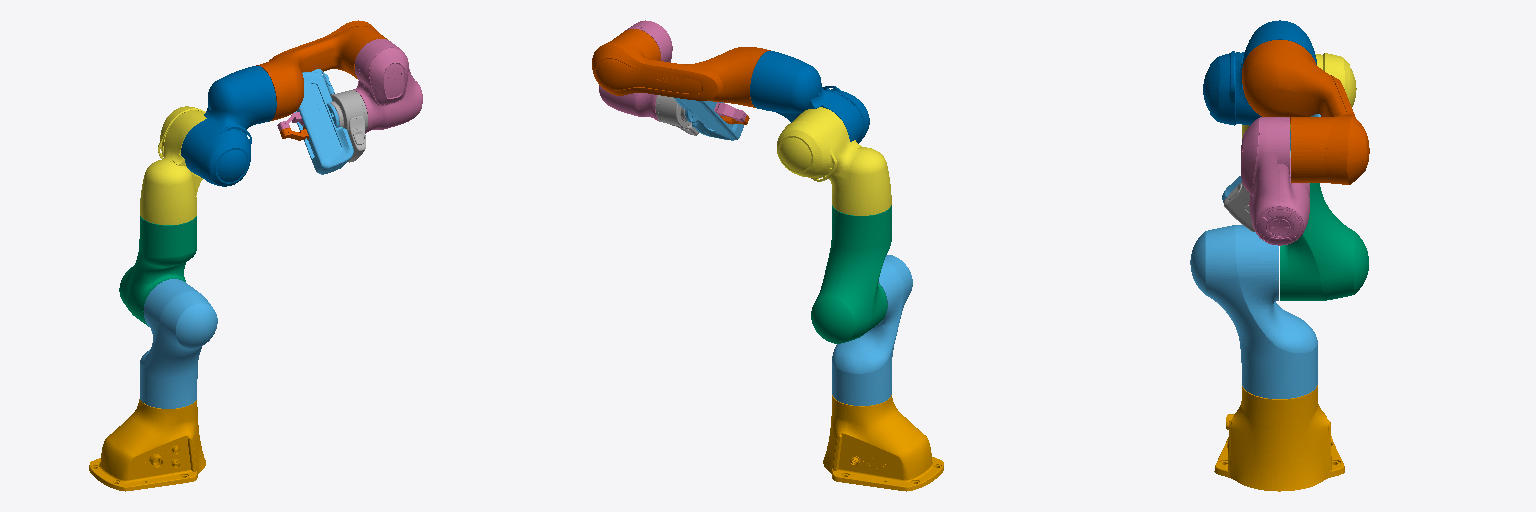
URDF robot description (panda):
<?xml version="1.0" ?>
<!-- =================================================================================== -->
<!-- |    This document was autogenerated by xacro from panda_arm.urdf.xacro           | -->
<!-- |    EDITING THIS FILE BY HAND IS NOT RECOMMENDED                                 | -->
<!-- =================================================================================== -->
<robot name="panda">
  <mujoco> <compiler discardvisual="false" strippath="false" balanceinertia="true" fusestatic="false"/> </mujoco>
  <link name="panda_link0">
    <visual>
      <geometry name="v1">
        <mesh filename="franka_description/meshes/visual/link0_visual.obj"/>
      </geometry>
    </visual>
    <collision>
      <geometry>
        <mesh filename="franka_description/meshes/collision/link0.stl"/>
      </geometry>
    </collision>
    <inertial>
      <origin rpy="0 0 0" xyz="-0.041018 -0.00014 0.049974"/>
      <mass value="0.629769"/>
      <inertia ixx="0.00315" ixy="8.2904e-07" ixz="0.00015" iyy="0.00388" iyz="8.2299e-06" izz="0.004285"/>
    </inertial>
  </link>
  <link name="panda_link1">
    <visual>
      <geometry name="v2">
        <mesh filename="franka_description/meshes/visual/link1_visual.obj"/>
      </geometry>
    </visual>
    <collision>
      <geometry>
        <mesh filename="franka_description/meshes/collision/link1.stl"/>
      </geometry>
    </collision>
    <inertial>
      <origin rpy="0 0 0" xyz="0.003875 0.002081 -0.04762"/>
      <mass value="4.970684"/>
      <inertia ixx="0.70337" ixy="-0.000139" ixz="0.006772" iyy="0.70661" iyz="0.019169" izz="0.009117"/>
    </inertial>
  </link>
  <joint name="panda_joint1" type="revolute">
    <safety_controller k_position="100.0" k_velocity="40.0" soft_lower_limit="-2.8973" soft_upper_limit="2.8973"/>
    <origin rpy="0 0 0" xyz="0 0 0.333"/>
    <parent link="panda_link0"/>
    <child link="panda_link1"/>
    <axis xyz="0 0 1"/>
    <limit effort="87" lower="-2.8973" upper="2.8973" velocity="2.1750"/>
    <dynamics D="1" K="7000" damping="0.003" friction="0.0" mu_coulomb="0" mu_viscous="16"/>
  </joint>
  <link name="panda_link2">
    <visual>
      <geometry name="v3">
        <mesh filename="franka_description/meshes/visual/link2_visual.obj"/>
      </geometry>
    </visual>
    <collision>
      <geometry>
        <mesh filename="franka_description/meshes/collision/link2.stl"/>
      </geometry>
    </collision>
    <inertial>
      <origin rpy="0 0 0" xyz="-0.003141 -0.02872  0.003495"/>
      <mass value="0.646926"/>
      <inertia ixx="0.007962" ixy="-0.003925" ixz="0.010254" iyy="0.02811" iyz="0.000704" izz="0.025995"/>
    </inertial>
  </link>
  <joint name="panda_joint2" type="revolute">
    <safety_controller k_position="100.0" k_velocity="40.0" soft_lower_limit="-1.7628" soft_upper_limit="1.7628"/>
    <origin rpy="-1.5707963267948966 0 0" xyz="0 0 0"/>
    <parent link="panda_link1"/>
    <child link="panda_link2"/>
    <axis xyz="0 0 1"/>
    <limit effort="87" lower="-1.7628" upper="1.7628" velocity="2.1750"/>
    <dynamics D="1" K="7000" damping="0.003" friction="0.0" mu_coulomb="0" mu_viscous="16"/>
  </joint>
  <link name="panda_link3">
    <visual>
      <geometry name="v4">
        <mesh filename="franka_description/meshes/visual/link3_visual.obj"/>
      </geometry>
    </visual>
    <collision>
      <geometry>
        <mesh filename="franka_description/meshes/collision/link3.stl"/>
      </geometry>
    </collision>
    <inertial>
      <origin rpy="0 0 0" xyz="2.7518e-02 3.9252e-02 -6.6502e-02"/>
      <mass value="3.228604"/>
      <inertia ixx="0.037242" ixy="-0.004761" ixz="-0.011396" iyy="0.036155" iyz="-0.012805" izz="0.01083"/>
    </inertial>
  </link>
  <joint name="panda_joint3" type="revolute">
    <safety_controller k_position="100.0" k_velocity="40.0" soft_lower_limit="-2.8973" soft_upper_limit="2.8973"/>
    <origin rpy="1.5707963267948966 0 0" xyz="0 -0.316 0"/>
    <parent link="panda_link2"/>
    <child link="panda_link3"/>
    <axis xyz="0 0 1"/>
    <limit effort="87" lower="-2.8973" upper="2.8973" velocity="2.1750"/>
    <dynamics D="1" K="7000" damping="0.003" friction="0.0" mu_coulomb="0" mu_viscous="16"/>
  </joint>
  <link name="panda_link4">
    <visual>
      <geometry name="v5">
        <mesh filename="franka_description/meshes/visual/link4_visual.obj"/>
      </geometry>
    </visual>
    <collision>
      <geometry>
        <mesh filename="franka_description/meshes/collision/link4.stl"/>
      </geometry>
    </collision>
    <inertial>
      <origin rpy="0 0 0" xyz="-5.317e-02 1.04419e-01 2.7454e-02"/>
      <mass value="3.587895"/>
      <inertia ixx="0.025853" ixy="0.007796" ixz="-0.001332" iyy="0.019552" iyz="0.008641" izz="0.028323"/>
    </inertial>
  </link>
  <joint name="panda_joint4" type="revolute">
    <safety_controller k_position="100.0" k_velocity="40.0" soft_lower_limit="-3.0718" soft_upper_limit="-0.0698"/>
    <origin rpy="1.5707963267948966 0 0" xyz="0.0825 0 0"/>
    <parent link="panda_link3"/>
    <child link="panda_link4"/>
    <axis xyz="0 0 1"/>
    <limit effort="87" lower="-3.0718" upper="-0.0698" velocity="2.1750"/>
    <dynamics D="1" K="7000" damping="0.003" friction="0.0" mu_coulomb="0" mu_viscous="16"/>
  </joint>
  <link name="panda_link5">
    <visual>
      <geometry name="v6">
        <mesh filename="franka_description/meshes/visual/link5_visual.obj"/>
      </geometry>
    </visual>
    <collision>
      <geometry>
        <mesh filename="franka_description/meshes/collision/link5.stl"/>
      </geometry>
    </collision>
    <inertial>
      <origin rpy="0 0 0" xyz="-1.1953e-02 4.1065e-02 -3.8437e-02"/>
      <mass value="1.225946"/>
      <inertia ixx="0.035549" ixy="-0.002117" ixz="-0.004037" iyy="0.029474" iyz="0.000229" izz="0.008627"/>
    </inertial>
  </link>
  <joint name="panda_joint5" type="revolute">
    <safety_controller k_position="100.0" k_velocity="40.0" soft_lower_limit="-2.8973" soft_upper_limit="2.8973"/>
    <origin rpy="-1.5707963267948966 0 0" xyz="-0.0825 0.384 0"/>
    <parent link="panda_link4"/>
    <child link="panda_link5"/>
    <axis xyz="0 0 1"/>
    <limit effort="12" lower="-2.8973" upper="2.8973" velocity="2.6100"/>
    <dynamics D="1" K="7000" damping="0.003" friction="0.0" mu_coulomb="0" mu_viscous="16"/>
  </joint>
  <link name="panda_link6">
    <visual>
      <geometry name="v7">
        <mesh filename="franka_description/meshes/visual/link6_visual.obj"/>
      </geometry>
    </visual>
    <collision>
      <geometry>
        <mesh filename="franka_description/meshes/collision/link6.stl"/>
      </geometry>
    </collision>
    <inertial>
      <origin rpy="0 0 0" xyz="6.0149e-02 -1.4117e-02 -1.0517e-02"/>
      <mass value="1.666555"/>
      <inertia ixx="0.001964" ixy="0.000109" ixz="-0.001158" iyy="0.004354" iyz="0.000341" izz="0.005433"/>
    </inertial>
  </link>
  <joint name="panda_joint6" type="revolute">
    <safety_controller k_position="100.0" k_velocity="40.0" soft_lower_limit="-0.0175" soft_upper_limit="3.7525"/>
    <origin rpy="1.5707963267948966 0 0" xyz="0 0 0"/>
    <parent link="panda_link5"/>
    <child link="panda_link6"/>
    <axis xyz="0 0 1"/>
    <limit effort="12" lower="-0.0175" upper="3.7525" velocity="2.6100"/>
    <dynamics D="1" K="7000" damping="0.003" friction="0.0" mu_coulomb="0" mu_viscous="16"/>
  </joint>
  <link name="panda_link7">
    <visual>
      <geometry name="v8">
        <mesh filename="franka_description/meshes/visual/link7_visual.obj"/>
      </geometry>
    </visual>
    <collision>
      <geometry>
        <mesh filename="franka_description/meshes/collision/link7.stl"/>
      </geometry>
    </collision>
    <inertial>
      <origin rpy="0 0 0" xyz="1.0517e-02 -4.252e-03 6.1597e-02"/>
      <mass value="0.735522"/>
      <inertia ixx="0.012516" ixy="-0.000428" ixz="-0.001196" iyy="0.010027" iyz="-0.000741" izz="0.004815"/>
    </inertial>
  </link>
  <joint name="panda_joint7" type="revolute">
    <safety_controller k_position="100.0" k_velocity="40.0" soft_lower_limit="-2.8973" soft_upper_limit="2.8973"/>
    <origin rpy="1.5707963267948966 0 0" xyz="0.088 0 0"/>
    <parent link="panda_link6"/>
    <child link="panda_link7"/>
    <axis xyz="0 0 1"/>
    <limit effort="12" lower="-2.8973" upper="2.8973" velocity="2.6100"/>
    <dynamics D="1" K="7000" damping="0.003" friction="0.0" mu_coulomb="0" mu_viscous="16"/>
  </joint>
  <link name="panda_link8"/>
  <joint name="panda_joint8" type="fixed">
    <origin rpy="0 0 0" xyz="0 0 0.107"/>
    <parent link="panda_link7"/>
    <child link="panda_link8"/>
  </joint>
  <joint name="panda_hand_joint" type="fixed">
    <parent link="panda_link8"/>
    <child link="panda_hand"/>
    <origin rpy="0 0 -0.7853981633974483" xyz="0 0 0"/>
  </joint>
  <link name="panda_hand">
    <visual>
      <geometry name="v9">
        <mesh filename="franka_description/meshes/visual/hand_visual.obj"/>
      </geometry>
    </visual>
    <collision>
      <geometry>
        <mesh filename="franka_description/meshes/collision/hand.stl"/>
      </geometry>
    </collision>
    <inertial>
      <origin rpy="0 0 0" xyz="-0.01 0 0.03"/>
      <mass value="0.73"/>
      <inertia ixx="0.001" ixy="0" ixz="0" iyy="0.0025" iyz="0" izz="0.0017"/>
    </inertial>
  </link>
  <!-- Define the hand_tcp frame -->
  <link name="panda_hand_tcp"/>
  <joint name="panda_hand_tcp_joint" type="fixed">
    <origin rpy="0 0 0" xyz="0 0 0.1034"/>
    <parent link="panda_hand"/>
    <child link="panda_hand_tcp"/>
  </joint>
  <link name="panda_leftfinger_pad"/>
  <joint name="panda_leftfinger_pad_joint" type="fixed">
    <origin rpy="0 0 0" xyz="0 0 0.0455"/>
    <parent link="panda_leftfinger"/>
    <child link="panda_leftfinger_pad"/>
  </joint>
  <link name="panda_rightfinger_pad"/>
  <joint name="panda_rightfinger_pad_joint" type="fixed">
    <origin rpy="0 0 0" xyz="0 0 0.0455"/>
    <parent link="panda_rightfinger"/>
    <child link="panda_rightfinger_pad"/>
  </joint>
  <link name="panda_leftfinger">
    <visual>
      <geometry name="v10">
        <mesh filename="franka_description/meshes/visual/finger_visual.obj"/>
      </geometry>
    </visual>
    <!-- screw mount -->
    <collision>
      <origin rpy="0 0 0" xyz="0 18.5e-3 11e-3"/>
      <geometry>
        <box size="22e-3 15e-3 20e-3"/>
      </geometry>
    </collision>
    <!-- cartriage sledge -->
    <collision>
      <origin rpy="0 0 0" xyz="0 6.8e-3 2.2e-3"/>
      <geometry>
        <box size="22e-3 8.8e-3 3.8e-3"/>
      </geometry>
    </collision>
    <!-- diagonal finger -->
    <collision>
      <origin rpy="0.5235987755982988 0 0" xyz="0 15.9e-3 28.35e-3"/>
      <geometry>
        <box size="17.5e-3 7e-3 23.5e-3"/>
      </geometry>
    </collision>
    <!-- rubber tip with which to grasp -->
    <collision>
      <origin rpy="0 0 0" xyz="0 7.58e-3 45.25e-3"/>
      <geometry>
        <box size="17.5e-3 15.2e-3 18.5e-3"/>
      </geometry>
    </collision>
    <inertial>
      <origin rpy="0 0 0" xyz="0 0 0"/>
      <mass value="0.015"/>
      <inertia ixx="2.3749999999999997e-06" ixy="0" ixz="0" iyy="2.3749999999999997e-06" iyz="0" izz="7.5e-07"/>
    </inertial>
  </link>
  <link name="panda_rightfinger">
    <visual>
      <origin rpy="0 0 3.141592653589793" xyz="0 0 0"/>
      <geometry name="v11">
        <mesh filename="franka_description/meshes/visual/finger_visual.obj"/>
      </geometry>
    </visual>
    <!-- screw mount -->
    <collision>
      <origin rpy="0 0 0" xyz="0 -18.5e-3 11e-3"/>
      <geometry>
        <box size="22e-3 15e-3 20e-3"/>
      </geometry>
    </collision>
    <!-- cartriage sledge -->
    <collision>
      <origin rpy="0 0 0" xyz="0 -6.8e-3 2.2e-3"/>
      <geometry>
        <box size="22e-3 8.8e-3 3.8e-3"/>
      </geometry>
    </collision>
    <!-- diagonal finger -->
    <collision>
      <origin rpy="-0.5235987755982988 0 0" xyz="0 -15.9e-3 28.35e-3"/>
      <geometry>
        <box size="17.5e-3 7e-3 23.5e-3"/>
      </geometry>
    </collision>
    <!-- rubber tip with which to grasp -->
    <collision>
      <origin rpy="0 0 0" xyz="0 -7.58e-3 45.25e-3"/>
      <geometry>
        <box size="17.5e-3 15.2e-3 18.5e-3"/>
      </geometry>
    </collision>
    <inertial>
      <origin rpy="0 0 0" xyz="0 0 0"/>
      <mass value="0.015"/>
      <inertia ixx="2.3749999999999997e-06" ixy="0" ixz="0" iyy="2.3749999999999997e-06" iyz="0" izz="7.5e-07"/>
    </inertial>
  </link>
  <joint name="panda_finger_joint1" type="prismatic">
    <parent link="panda_hand"/>
    <child link="panda_leftfinger"/>
    <origin rpy="0 0 0" xyz="0 0 0.0584"/>
    <axis xyz="0 1 0"/>
    <limit effort="100" lower="0.0" upper="0.04" velocity="0.2"/>
    <dynamics damping="0.3"/>
  </joint>
  <joint name="panda_finger_joint2" type="prismatic">
    <parent link="panda_hand"/>
    <child link="panda_rightfinger"/>
    <origin rpy="0 0 0" xyz="0 0 0.0584"/>
    <axis xyz="0 -1 0"/>
    <limit effort="100" lower="0.0" upper="0.04" velocity="0.2"/>
    <mimic joint="panda_finger_joint1"/>
    <dynamics damping="0.3"/>
  </joint>
</robot>

--- What the picture shows (computed from the rendered views, not written in the file) ---
The picture shows the robot from 3 angles, left to right: view 1: azimuth 30°, elevation 25°; view 2: azimuth 150°, elevation 25°; view 3: azimuth 270°, elevation 25°; orthographic projection.
Model panda with 15 links and 14 joints (7 revolute, 2 prismatic, 5 fixed), rooted at panda_link0, posed joints at zero except 1 at the middle of their limits (panda_joint4 = -1.57).
Visible links, largest first — view 1: panda_link0, panda_link1, panda_link4, panda_link3, panda_link5, panda_link6, panda_link2, panda_hand, panda_link7; view 2: panda_link0, panda_link5, panda_link2, panda_link3, panda_link1, panda_link4, panda_link6, panda_hand, panda_link7; view 3: panda_link1, panda_link5, panda_link0, panda_link2, panda_link6, panda_link4, panda_link3, panda_link7.
Link boxes in pixels (left/top/right/bottom): panda_link0: left=89, top=399, right=205, bottom=491; panda_link1: left=140, top=279, right=217, bottom=408; panda_link4: left=181, top=66, right=276, bottom=186; panda_link3: left=140, top=106, right=206, bottom=224; panda_link5: left=256, top=20, right=387, bottom=121; panda_link6: left=353, top=39, right=422, bottom=133; panda_link2: left=119, top=216, right=196, bottom=326; panda_hand: left=294, top=69, right=353, bottom=174; panda_link7: left=330, top=90, right=367, bottom=162; panda_link0: left=823, top=395, right=943, bottom=491; panda_link5: left=592, top=29, right=770, bottom=107; panda_link2: left=811, top=205, right=891, bottom=343; panda_link3: left=777, top=107, right=891, bottom=215; panda_link1: left=832, top=255, right=912, bottom=405; panda_link4: left=750, top=51, right=869, bottom=143; panda_link6: left=599, top=20, right=672, bottom=121; panda_hand: left=673, top=97, right=743, bottom=140; panda_link7: left=655, top=95, right=698, bottom=135; panda_link1: left=1190, top=225, right=1317, bottom=398; panda_link5: left=1242, top=40, right=1369, bottom=184; panda_link0: left=1214, top=385, right=1344, bottom=491; panda_link2: left=1280, top=183, right=1368, bottom=300; panda_link6: left=1241, top=117, right=1309, bottom=245; panda_link4: left=1203, top=20, right=1316, bottom=125; panda_link3: left=1242, top=53, right=1356, bottom=137; panda_link7: left=1224, top=151, right=1309, bottom=231.
Size in the robot's own frame: 0.7022 by 0.2593 by 0.7865 metres.
11 mesh visuals loaded from 10 distinct referenced files (10 OBJ).